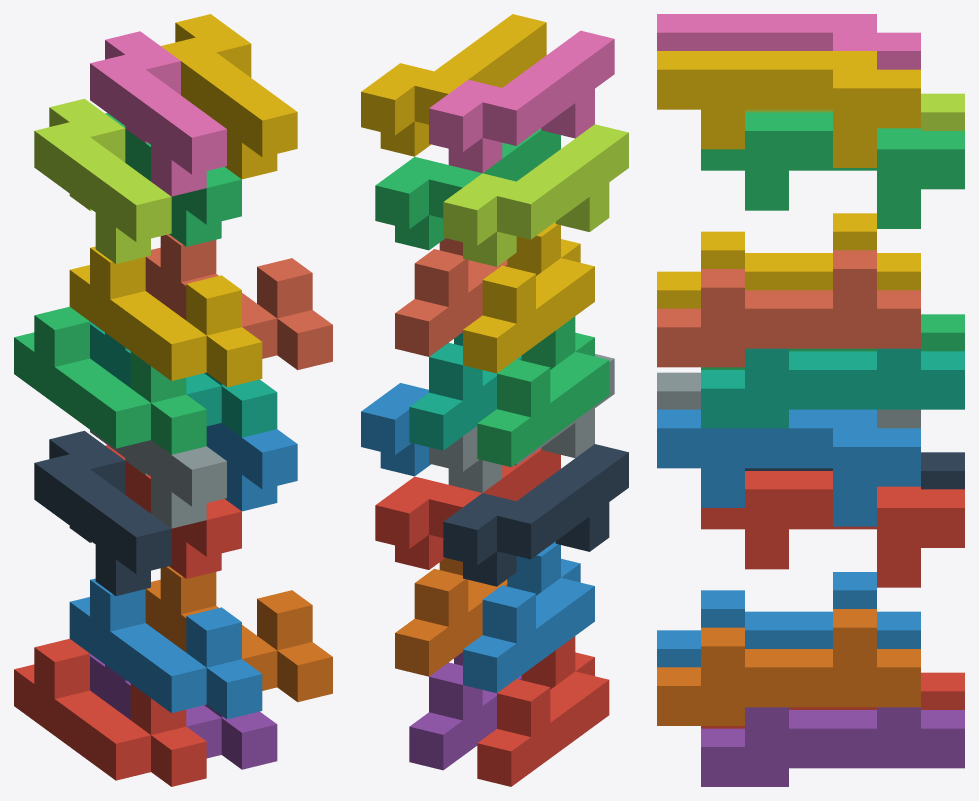
File: tiling.obj
The picture shows the model from 3 angles, left to right: view 1: azimuth 30°, elevation 25°; view 2: azimuth 150°, elevation 25°; view 3: azimuth 270°, elevation 25°; orthographic projection. The views are drawn at different scales.
Visible parts, largest first — view 1: copy_1_domain_4, copy_1_domain_2, copy_1_domain_1, copy_1_domain_3, copy_2_domain_3, copy_2_domain_1, copy_2_domain_4, copy_2_domain_8, copy_1_domain_8, copy_1_domain_6, copy_2_domain_2, copy_1_domain_5 (+4 smaller); view 2: copy_2_domain_1, copy_2_domain_3, copy_2_domain_4, copy_1_domain_4, copy_1_domain_2, copy_1_domain_3, copy_1_domain_1, copy_2_domain_8, copy_2_domain_7, copy_2_domain_5, copy_1_domain_6, copy_1_domain_8 (+4 smaller); view 3: copy_2_domain_8, copy_1_domain_8, copy_1_domain_6, copy_2_domain_6, copy_1_domain_7, copy_1_domain_5, copy_2_domain_5, copy_2_domain_7, copy_1_domain_4, copy_1_domain_2, copy_2_domain_4, copy_2_domain_2 (+4 smaller).
Boxes of the visible parts, left/top/right/bottom form: copy_1_domain_4: left=69, top=246, right=262, bottom=387; copy_1_domain_2: left=69, top=578, right=262, bottom=719; copy_1_domain_1: left=14, top=638, right=206, bottom=786; copy_1_domain_3: left=14, top=306, right=206, bottom=454; copy_2_domain_3: left=34, top=98, right=171, bottom=263; copy_2_domain_1: left=34, top=431, right=171, bottom=595; copy_2_domain_4: left=90, top=31, right=226, bottom=196; copy_2_domain_8: left=161, top=14, right=297, bottom=179; copy_1_domain_8: left=145, top=234, right=332, bottom=370; copy_1_domain_6: left=145, top=566, right=332, bottom=702; copy_2_domain_2: left=90, top=430, right=226, bottom=528; copy_1_domain_5: left=90, top=654, right=277, bottom=769; copy_2_domain_1: left=443, top=444, right=628, bottom=586; copy_2_domain_3: left=443, top=124, right=628, bottom=266; copy_2_domain_4: left=429, top=30, right=614, bottom=173; copy_1_domain_4: left=463, top=222, right=594, bottom=373; copy_1_domain_2: left=463, top=541, right=594, bottom=693; copy_1_domain_3: left=477, top=316, right=609, bottom=466; copy_1_domain_1: left=477, top=636, right=609, bottom=786; copy_2_domain_8: left=361, top=14, right=546, bottom=156; copy_2_domain_7: left=375, top=128, right=560, bottom=250; copy_2_domain_5: left=375, top=448, right=560, bottom=569; copy_1_domain_6: left=395, top=558, right=507, bottom=676; copy_1_domain_8: left=395, top=238, right=507, bottom=356; copy_2_domain_8: left=657, top=51, right=920, bottom=167; copy_1_domain_8: left=657, top=250, right=920, bottom=367; copy_1_domain_6: left=657, top=609, right=920, bottom=725; copy_2_domain_6: left=657, top=409, right=920, bottom=526; copy_1_domain_7: left=701, top=348, right=964, bottom=428; copy_1_domain_5: left=701, top=707, right=964, bottom=786; copy_2_domain_5: left=701, top=471, right=964, bottom=587; copy_2_domain_7: left=701, top=112, right=964, bottom=228; copy_1_domain_4: left=657, top=213, right=920, bottom=308; copy_1_domain_2: left=657, top=572, right=920, bottom=667; copy_2_domain_4: left=657, top=14, right=920, bottom=69; copy_2_domain_2: left=657, top=372, right=920, bottom=428.
Size of the model in its own units: 5 by 18 by 7.
